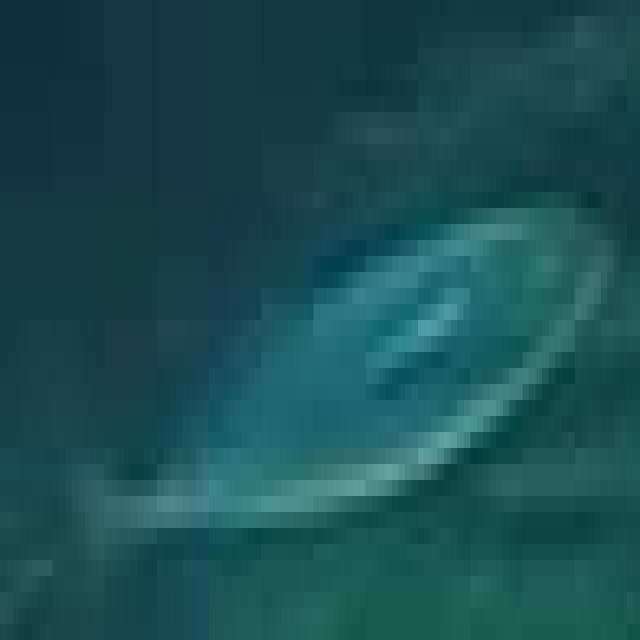fish: (6, 0, 640, 624)
